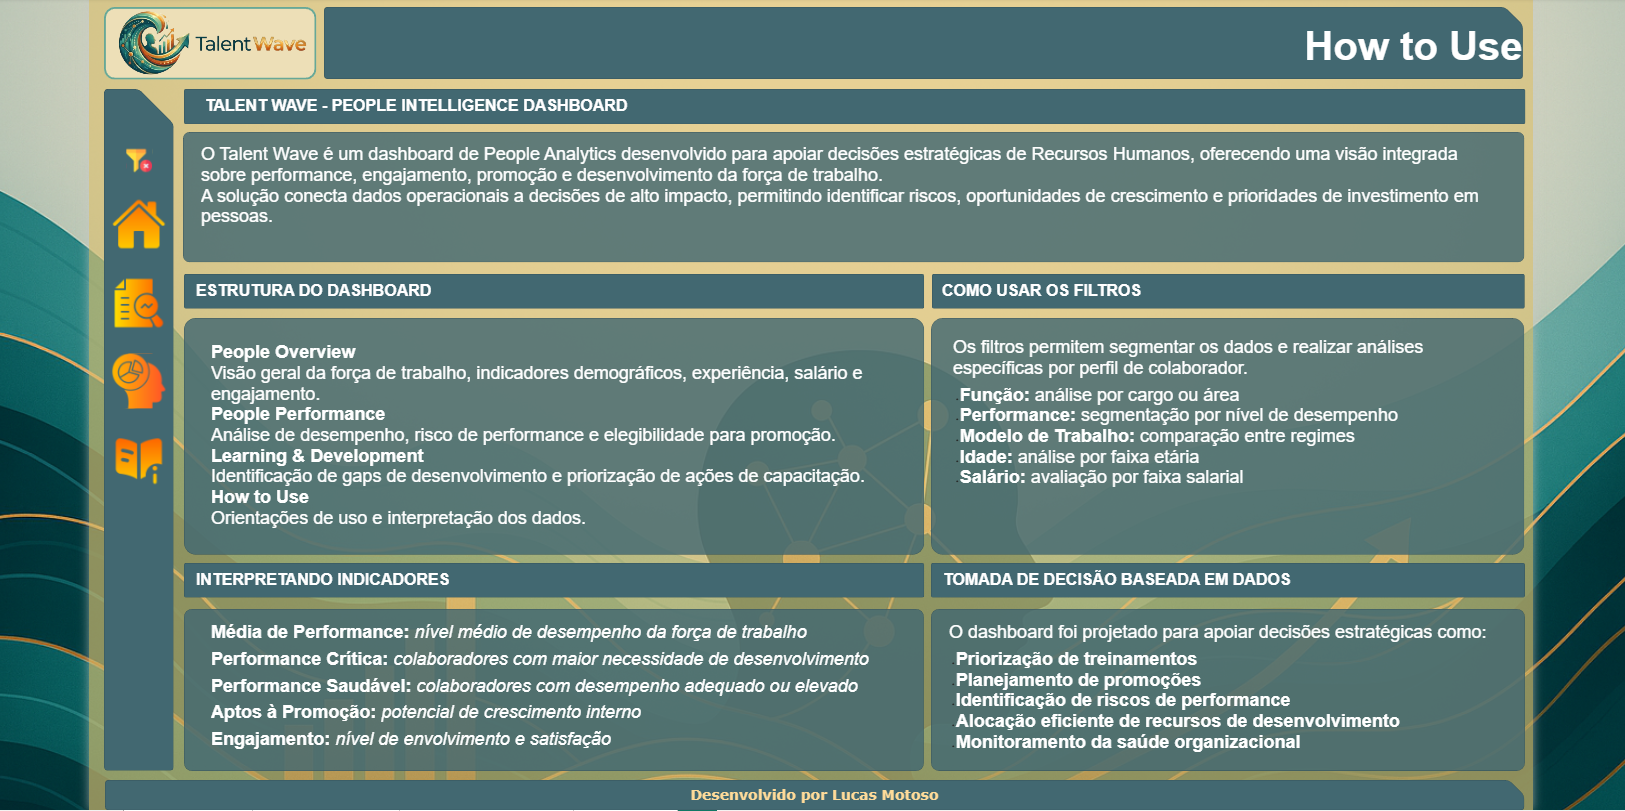

The dashboard page shown, as its layout file describes it:
{"tool":"powerbi","page":{"name":"How to Use","canvas":[3840,2160],"ordinal":3},"visuals":[{"type":"group","id":"g1","title":"Logo Talent Wave","box":[0,24.2,658.2,193.4],"z":0},{"type":"shape","title":"Shape do Logo","box":[40.1,24.2,564.9,193.2],"z":0,"group":"g1"},{"type":"shape","box":[250,356.7,3568.2,346.5],"z":0,"group":"g5"},{"type":"shape","box":[2240,851.7,1578.3,630],"z":0,"group":"g8"},{"type":"shape","box":[252.4,852.3,1969,629.6],"z":0,"group":"g6"},{"type":"shape","box":[2239.3,1624.5,1580,430.6],"z":0,"group":"g12"},{"type":"shape","box":[252.7,1625.3,1968.5,430.9],"z":0,"group":"g10"},{"type":"image","title":"Logo","box":[0,24.2,658.2,190.7],"z":1000,"group":"g1"},{"type":"shape","box":[252.7,242.1,3568.3,93.3],"z":1000,"group":"g3"},{"type":"shape","box":[2241.7,733.3,1576.6,92.3],"z":1000,"group":"g7"},{"type":"shape","box":[252.4,733.5,1968.9,92.4],"z":1000,"group":"g4"},{"type":"shape","box":[252.4,1504.2,1969,92],"z":1000,"group":"g9"},{"type":"shape","box":[2239.3,1504.2,1580,92.1],"z":1000,"group":"g11"},{"type":"shape","title":"Footer","box":[41.9,2081.1,3775.6,80.5],"z":1000},{"type":"textbox","title":"Texto do Footer","box":[1534.7,2090.1,789.9,64.5],"z":2000},{"type":"shape","title":"Forma Superior","box":[625.1,23.9,3189.5,191.5],"z":3000},{"type":"shape","title":"Forma lateral esquerda","box":[40.3,241.8,185.4,1813.4],"z":4000},{"type":"textbox","box":[2222.8,62.1,1594.6,141.7],"z":5000},{"type":"actionButton","box":[39.9,393,186.8,77.3],"z":6000},{"type":"actionButton","box":[38.3,524.3,190.1,154.6],"z":7000},{"type":"actionButton","box":[38.3,732.9,190.1,154.6],"z":8000},{"type":"actionButton","box":[38.3,941.5,190.1,154.6],"z":9000},{"type":"actionButton","box":[38.3,1150.1,190.1,154.6],"z":10000},{"type":"group","id":"g2","title":"Grupo 5","box":[250,356.7,3568.3,346.7],"z":11000},{"type":"group","id":"g3","title":"Grupo 2","box":[252.7,242.1,3567.2,93.1],"z":12000},{"type":"group","id":"g4","title":"Grupo 2","box":[252.4,733.5,1969,92.1],"z":13000},{"type":"group","id":"g5","title":"Grupo 1","box":[250,356.7,3568.2,346.5],"z":13001,"group":"g2"},{"type":"group","id":"g6","title":"Grupo 3","box":[252.4,852.3,1969,629.6],"z":14000},{"type":"group","id":"g7","title":"Grupo 2","box":[2241.7,733.3,1576.7,92],"z":15000},{"type":"textbox","box":[302.3,255.8,3469.6,66],"z":15500,"group":"g3"},{"type":"textbox","box":[2263.6,746.8,1533,65.3],"z":15500,"group":"g7"},{"type":"textbox","box":[279.8,747,1914.4,65.3],"z":15500,"group":"g4"},{"type":"textbox","box":[279.8,1516.4,1914.5,65.1],"z":15500,"group":"g9"},{"type":"textbox","box":[2266.1,1518.5,1510.3,65.3],"z":15500,"group":"g11"},{"type":"group","id":"g8","title":"Grupo 3","box":[2240,851.7,1578.3,630],"z":16000},{"type":"group","id":"g9","title":"Grupo 2","box":[252.4,1504.2,1969,92],"z":17000},{"type":"group","id":"g10","title":"Grupo 3","box":[252.7,1625.3,1968.5,430.9],"z":18000},{"type":"group","id":"g11","title":"Grupo 2","box":[2239.3,1504.2,1580,92.1],"z":19000},{"type":"group","id":"g12","title":"Grupo 3","box":[2239.3,1624.5,1580,430.6],"z":20000},{"type":"textbox","box":[291.5,382.4,3443.8,292.6],"z":21503,"group":"g5"},{"type":"textbox","box":[2292.8,897.7,1480.7,550.1],"z":21503,"group":"g8"},{"type":"textbox","box":[319.1,911.1,1847.7,538.2],"z":21503,"group":"g6"},{"type":"textbox","box":[2282.9,1654.1,1491.3,363.5],"z":21503,"group":"g12"},{"type":"textbox","box":[318.8,1655.4,1846.7,363.1],"z":21503,"group":"g10"}]}

Visuals, with their boxes on the page's 3840x2160 design canvas (x1, y1, x2, y2). These are canvas units, not pixel positions in the 1625x811 screenshot, which may show the page scaled, cropped or inside an application window:
"Logo Talent Wave" group: (x1=0, y1=24, x2=658, y2=218)
"Shape do Logo" shape: (x1=40, y1=24, x2=605, y2=217)
shape: (x1=250, y1=357, x2=3818, y2=703)
shape: (x1=2240, y1=852, x2=3818, y2=1482)
shape: (x1=252, y1=852, x2=2221, y2=1482)
shape: (x1=2239, y1=1624, x2=3819, y2=2055)
shape: (x1=253, y1=1625, x2=2221, y2=2056)
"Logo" image: (x1=0, y1=24, x2=658, y2=215)
shape: (x1=253, y1=242, x2=3821, y2=335)
shape: (x1=2242, y1=733, x2=3818, y2=826)
shape: (x1=252, y1=734, x2=2221, y2=826)
shape: (x1=252, y1=1504, x2=2221, y2=1596)
shape: (x1=2239, y1=1504, x2=3819, y2=1596)
"Footer" shape: (x1=42, y1=2081, x2=3818, y2=2162)
"Texto do Footer" textbox: (x1=1535, y1=2090, x2=2325, y2=2155)
"Forma Superior" shape: (x1=625, y1=24, x2=3815, y2=215)
"Forma lateral esquerda" shape: (x1=40, y1=242, x2=226, y2=2055)
textbox: (x1=2223, y1=62, x2=3817, y2=204)
actionButton: (x1=40, y1=393, x2=227, y2=470)
actionButton: (x1=38, y1=524, x2=228, y2=679)
actionButton: (x1=38, y1=733, x2=228, y2=888)
actionButton: (x1=38, y1=942, x2=228, y2=1096)
actionButton: (x1=38, y1=1150, x2=228, y2=1305)
"Grupo 5" group: (x1=250, y1=357, x2=3818, y2=703)
"Grupo 2" group: (x1=253, y1=242, x2=3820, y2=335)
"Grupo 2" group: (x1=252, y1=734, x2=2221, y2=826)
"Grupo 1" group: (x1=250, y1=357, x2=3818, y2=703)
"Grupo 3" group: (x1=252, y1=852, x2=2221, y2=1482)
"Grupo 2" group: (x1=2242, y1=733, x2=3818, y2=825)
textbox: (x1=302, y1=256, x2=3772, y2=322)
textbox: (x1=2264, y1=747, x2=3797, y2=812)
textbox: (x1=280, y1=747, x2=2194, y2=812)
textbox: (x1=280, y1=1516, x2=2194, y2=1582)
textbox: (x1=2266, y1=1518, x2=3776, y2=1584)
"Grupo 3" group: (x1=2240, y1=852, x2=3818, y2=1482)
"Grupo 2" group: (x1=252, y1=1504, x2=2221, y2=1596)
"Grupo 3" group: (x1=253, y1=1625, x2=2221, y2=2056)
"Grupo 2" group: (x1=2239, y1=1504, x2=3819, y2=1596)
"Grupo 3" group: (x1=2239, y1=1624, x2=3819, y2=2055)
textbox: (x1=292, y1=382, x2=3735, y2=675)
textbox: (x1=2293, y1=898, x2=3774, y2=1448)
textbox: (x1=319, y1=911, x2=2167, y2=1449)
textbox: (x1=2283, y1=1654, x2=3774, y2=2018)
textbox: (x1=319, y1=1655, x2=2166, y2=2018)
